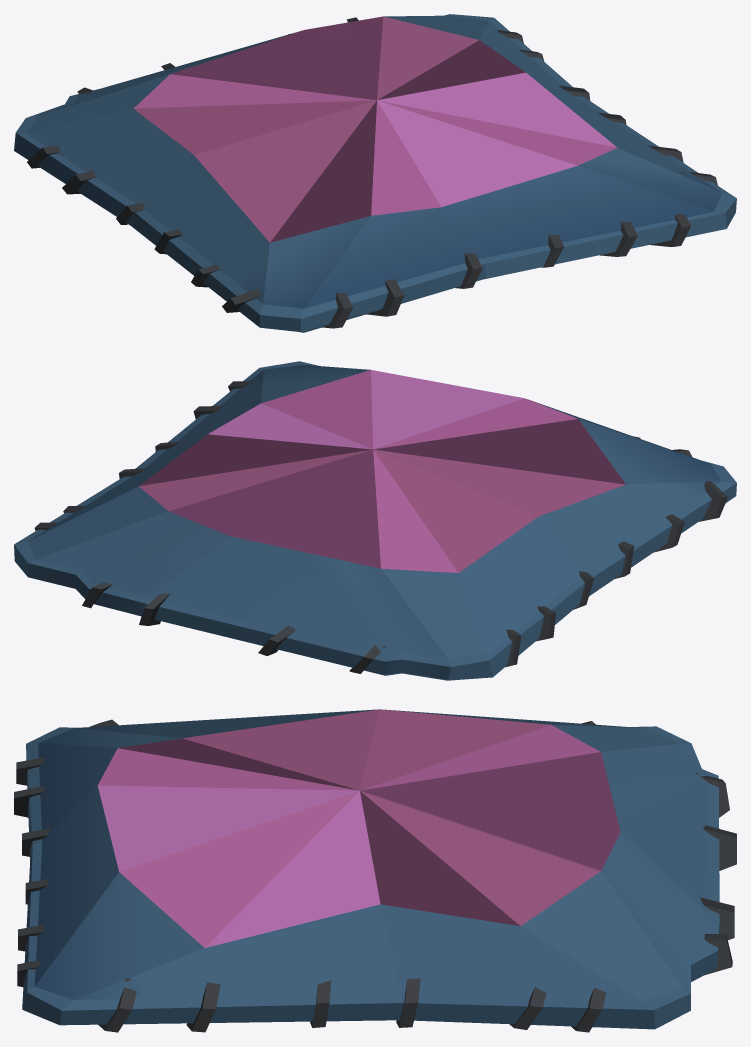
The model's file is SM_Prop_Pillow_08.fbx.
3 renders of one model, top to bottom at view 1: azimuth 30°, elevation 25°; view 2: azimuth 150°, elevation 25°; view 3: azimuth 270°, elevation 25°, orthographic. The views are drawn at different scales.
Parts seen in each view (by area): view 1: SM_Prop_Pillow_08; view 2: SM_Prop_Pillow_08; view 3: SM_Prop_Pillow_08.
Part boxes in pixels (<box>): SM_Prop_Pillow_08: <box>14,14,736,332</box>; SM_Prop_Pillow_08: <box>14,361,736,680</box>; SM_Prop_Pillow_08: <box>14,709,736,1032</box>.
Bounding box in the file's own units: 0.608 × 0.1198 × 0.6434.
1 material, 1 textured.
